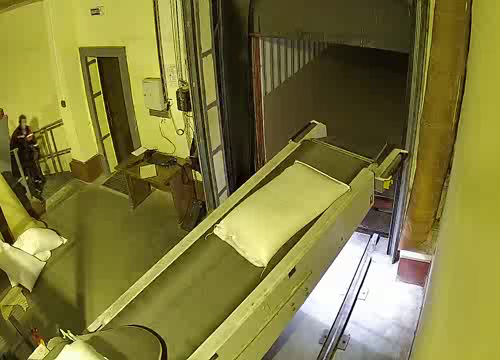bag: (207, 151, 371, 273), (42, 335, 123, 360)
